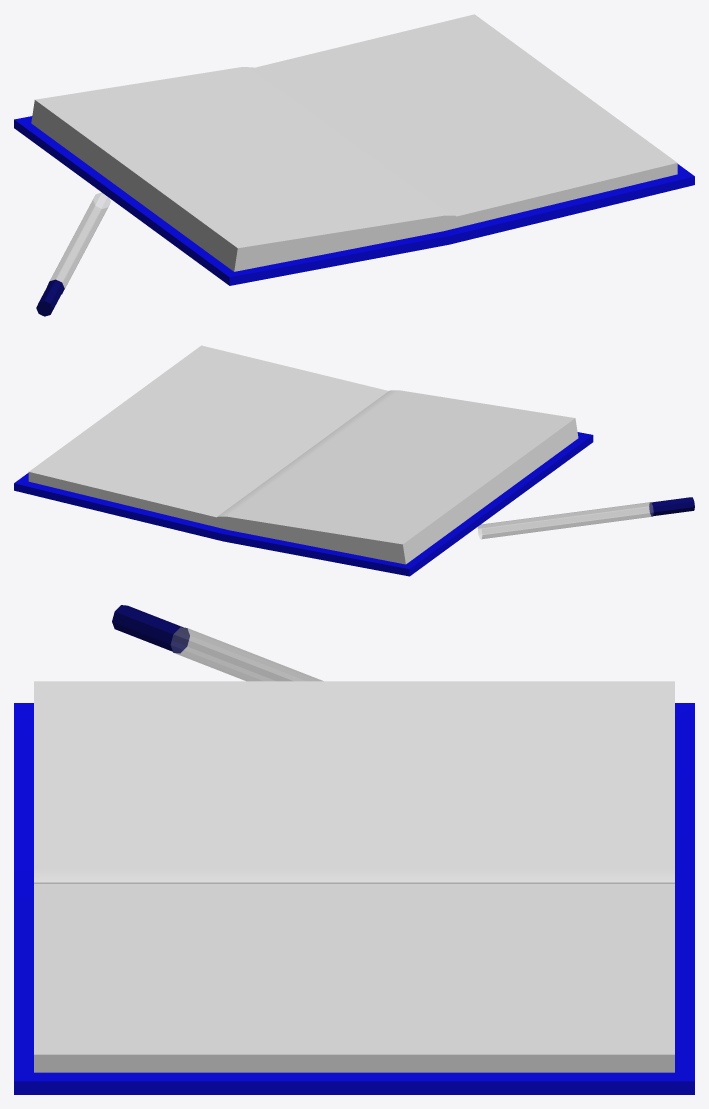
Rendered from caderno_caneta.fbx.
3 views of the same model, one above another, from view 1: azimuth 30°, elevation 25°; view 2: azimuth 150°, elevation 25°; view 3: azimuth 270°, elevation 25° (orthographic). The views are drawn at different scales.
Visible parts, largest first — view 1: folhas_livro, polySurface20; view 2: folhas_livro, polySurface20; view 3: folhas_livro, polySurface20.
Part boxes in pixels (x1,y1,x2,y2): folhas_livro: (14,14,694,285); polySurface20: (36,193,110,316); folhas_livro: (14,345,593,576); polySurface20: (478,497,694,539); folhas_livro: (14,681,694,1094); polySurface20: (112,605,323,681).
Size of the model in its own units: 0.5643 by 0.0422 by 0.3389.
